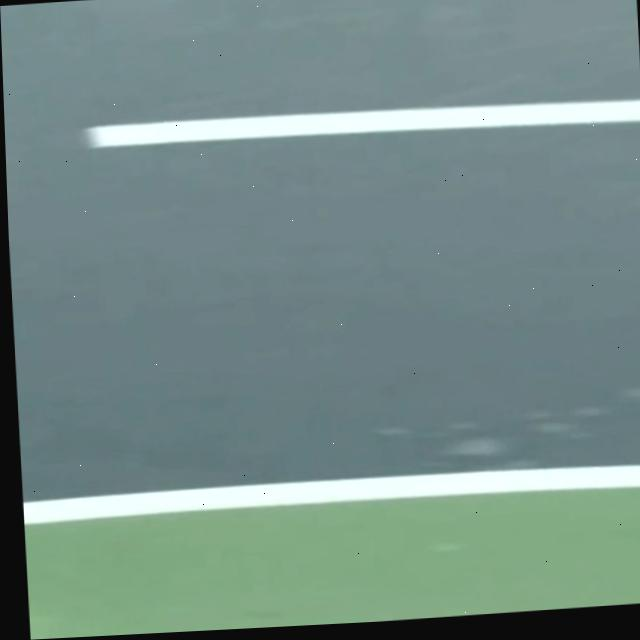center: (86, 98, 640, 147)
right: (22, 465, 640, 524)
